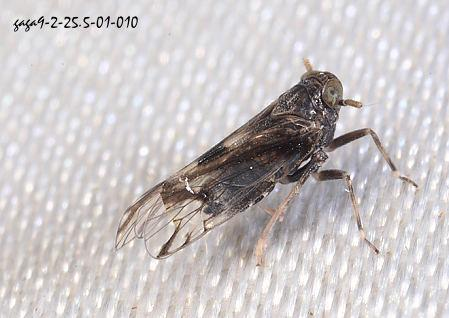Delphacidae: (114, 57, 419, 267)
